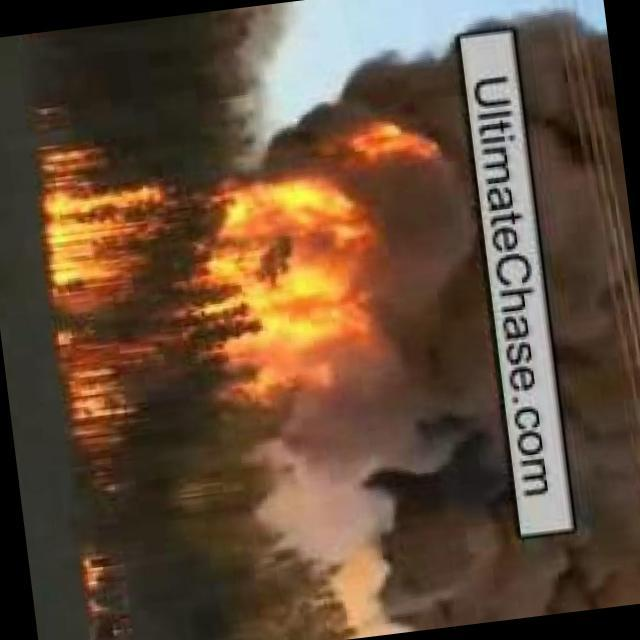Fire: (30, 139, 184, 477), (200, 170, 383, 402), (320, 113, 445, 177), (78, 545, 125, 625)
